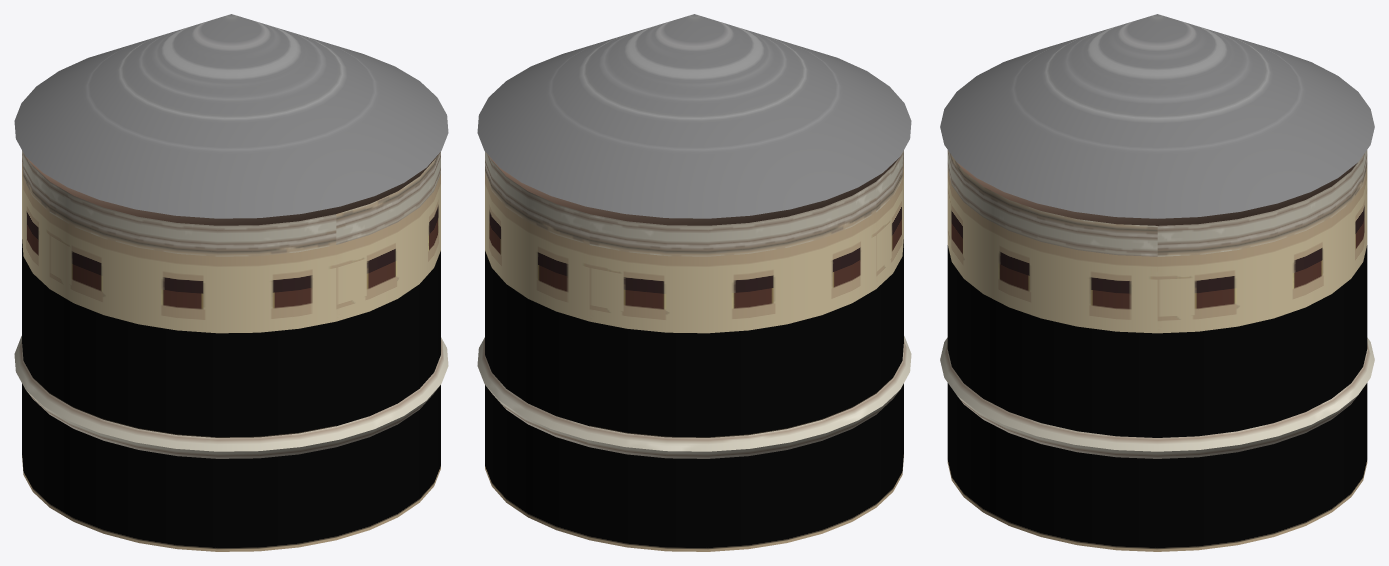
Rendered from SM_Water_Tower_01.fbx.
3 renders of one model, left to right at view 1: azimuth 30°, elevation 25°; view 2: azimuth 150°, elevation 25°; view 3: azimuth 270°, elevation 25°, orthographic.
Visible parts, largest first — view 1: SM_Water_Tower_01; view 2: SM_Water_Tower_01; view 3: SM_Water_Tower_01.
Part boxes in pixels (x1,y1,x2,y2): SM_Water_Tower_01: [14, 14, 448, 551]; SM_Water_Tower_01: [477, 14, 911, 551]; SM_Water_Tower_01: [940, 14, 1374, 551].
Bounding box in the file's own units: 20.73 × 23.64 × 20.73.
